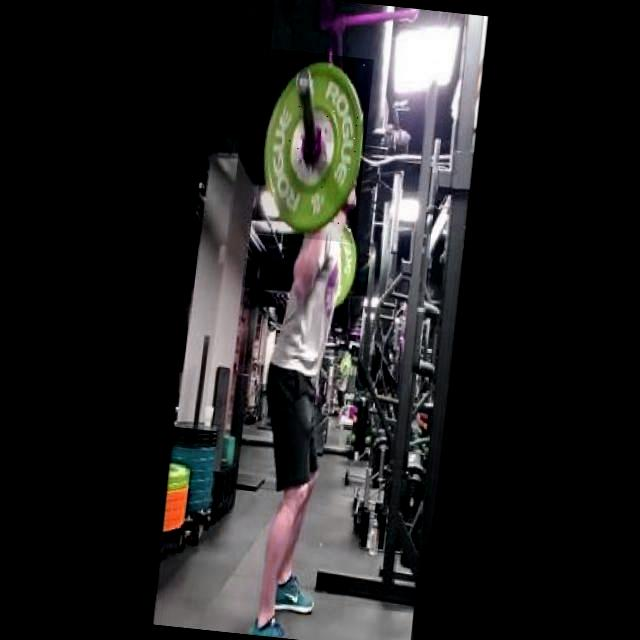barbell: (255, 50, 375, 243)
